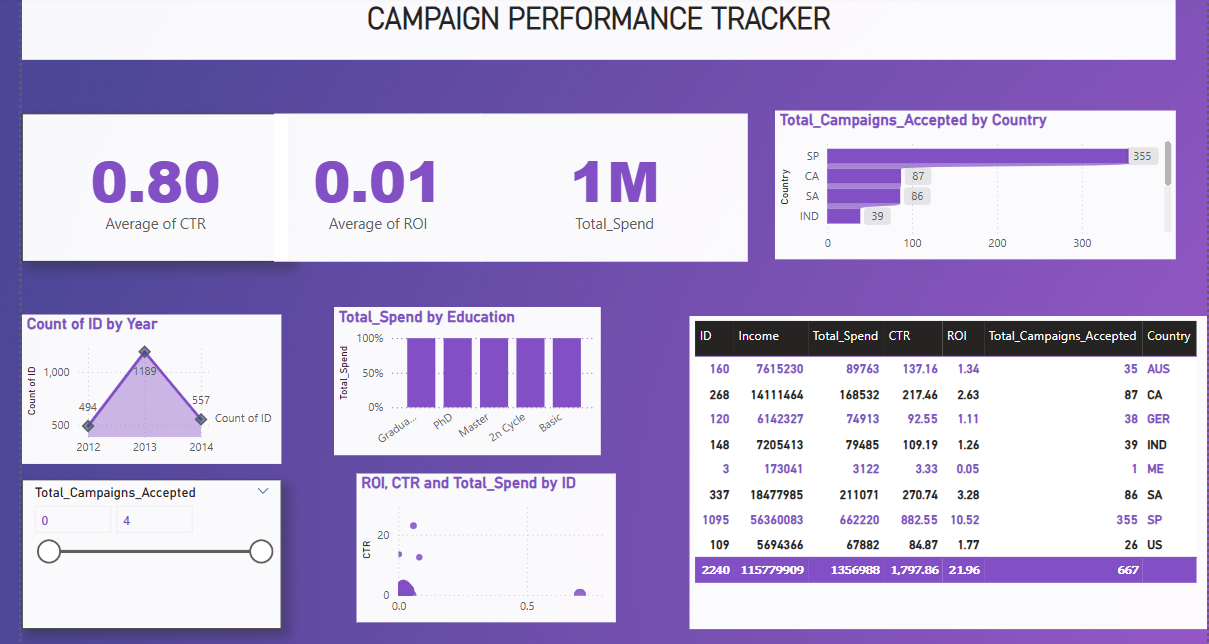

This screenshot's page, from the dashboard's own definition file:
{"tool":"powerbi","page":{"name":"Page 1","canvas":[1280,720],"ordinal":0},"visuals":[{"type":"card","fields":{"Values":["Avg(Sheet1.CTR)"]},"box":[0,128,288,160],"z":0},{"type":"card","fields":{"Values":["Avg(Sheet1.ROI)"]},"box":[272,128,224,160],"z":1000},{"type":"hundredPercentStackedColumnChart","fields":{"Category":["Sheet1.Education"],"Y":["Sum(Sheet1.Total_Spend)"]},"box":[336,336,288,160],"z":2000},{"type":"barChart","fields":{"Category":["Sheet1.Country"],"Y":["Sum(Sheet1.Total_Campaigns_Accepted)"]},"box":[812.6,124.7,432.8,160.6],"z":3000},{"type":"textbox","box":[0,0,1245.4,69.9],"z":4000},{"type":"lineChart","fields":{"Category":["Sheet1.Dt_Customer.Variation.Date Hierarchy.Year","Sheet1.Dt_Customer.Variation.Date Hierarchy.Quarter","Sheet1.Dt_Customer.Variation.Date Hierarchy.Month","Sheet1.Dt_Customer.Variation.Date Hierarchy.Day"],"Y":["CountNonNull(Sheet1.ID)"]},"box":[0,345.5,280,161],"z":5000},{"type":"scatterChart","fields":{"X":["Sum(Sheet1.ROI)"],"Y":["Sum(Sheet1.CTR)"],"Size":["Sum(Sheet1.Total_Spend)"],"Category":["Sheet1.ID"]},"box":[360.9,515.9,279.7,160.6],"z":6000},{"type":"tableEx","fields":{"Values":["CountNonNull(Sheet1.ID)","Sum(Sheet1.Income)","Sum(Sheet1.Total_Spend)","Sum(Sheet1.CTR)","Sum(Sheet1.ROI)","Sum(Sheet1.Total_Campaigns_Accepted)","Sheet1.Country"]},"box":[720,345.8,559.4,338.3],"z":7000},{"type":"slicer","fields":{"Values":["Sheet1.Total_Campaigns_Accepted"]},"box":[0,523,280,161],"z":8000},{"type":"card","fields":{"Values":["Sum(Sheet1.Total_Spend)"]},"box":[496,128,288,160],"z":9000}]}

Visuals, with their boxes in screenshot pixels (x1, y1, x2, y2):
card - Avg(Sheet1.CTR): select_region(19, 114, 283, 261)
card - Avg(Sheet1.ROI): select_region(268, 114, 473, 261)
hundredPercentStackedColumnChart - Sheet1.Education x Sum(Sheet1.Total_Spend): select_region(327, 305, 591, 451)
barChart - Sheet1.Country x Sum(Sheet1.Total_Campaigns_Accepted): select_region(764, 111, 1160, 258)
textbox: select_region(19, 0, 1160, 61)
lineChart - Sheet1.Dt_Customer.Variation.Date Hierarchy.Year x Sheet1.Dt_Customer.Variation.Date Hierarchy.Quarter: select_region(19, 314, 276, 461)
scatterChart - Sum(Sheet1.ROI) x Sum(Sheet1.CTR): select_region(350, 470, 606, 617)
tableEx - CountNonNull(Sheet1.ID) x Sum(Sheet1.Income): select_region(679, 314, 1191, 624)
slicer - Sheet1.Total_Campaigns_Accepted: select_region(19, 476, 276, 624)
card - Sum(Sheet1.Total_Spend): select_region(473, 114, 737, 261)
